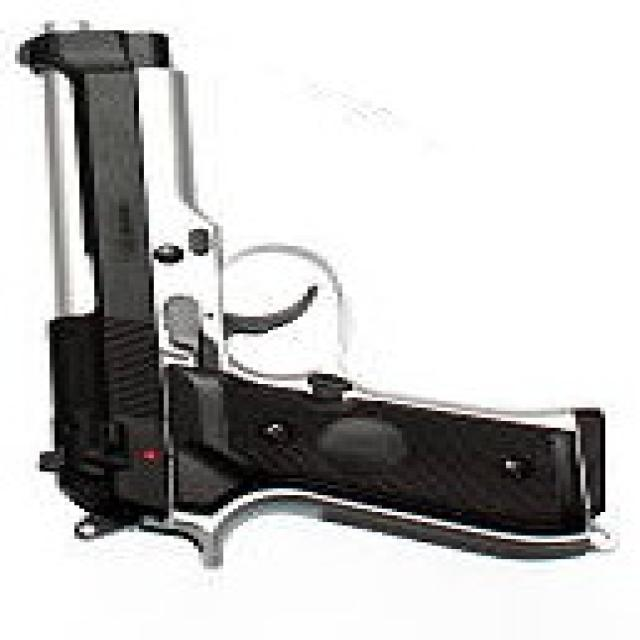pistol: (11, 16, 640, 573)
